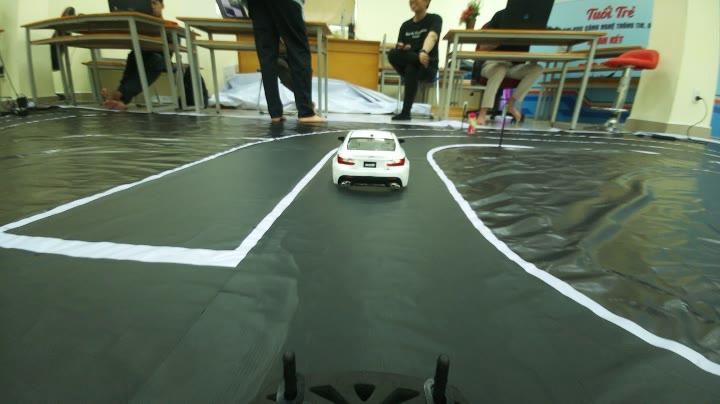car: (338, 121, 414, 196)
